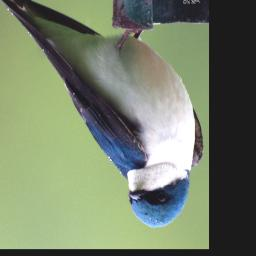Swallow: (0, 0, 204, 229)
